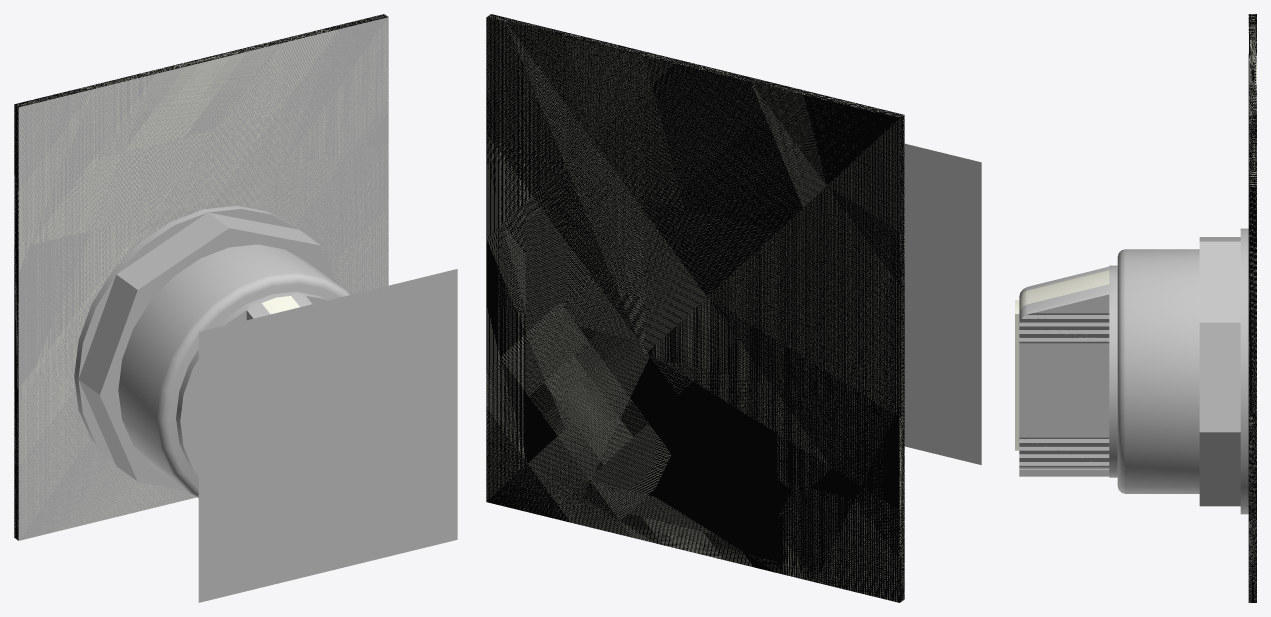
Rendered from switch.dae.
3 renders of one model, left to right at view 1: azimuth 30°, elevation 25°; view 2: azimuth 150°, elevation 25°; view 3: azimuth 270°, elevation 25°, orthographic. The views are drawn at different scales.
Parts seen in each view (by area): view 1: placard (×2), keybind_hint, switch_housing, housing_nut, switch; view 2: placard, keybind_hint; view 3: switch (×4), switch_housing, housing_nut, placard.
Boxes of the visible parts, x1=… form: placard (×2): x1=14, y1=14, x2=388, y2=540; keybind_hint: x1=198, y1=269, x2=457, y2=602; switch_housing: x1=118, y1=244, x2=349, y2=497; housing_nut: x1=74, y1=206, x2=337, y2=490; switch: x1=176, y1=291, x2=327, y2=475; placard: x1=486, y1=14, x2=904, y2=602; keybind_hint: x1=904, y1=143, x2=981, y2=464; switch (×4): x1=1015, y1=265, x2=1117, y2=477; switch_housing: x1=1117, y1=249, x2=1199, y2=493; housing_nut: x1=1199, y1=228, x2=1248, y2=514; placard: x1=1248, y1=14, x2=1256, y2=602.
Size of the model in its own units: 1.97 by 1.19 by 2.2.
